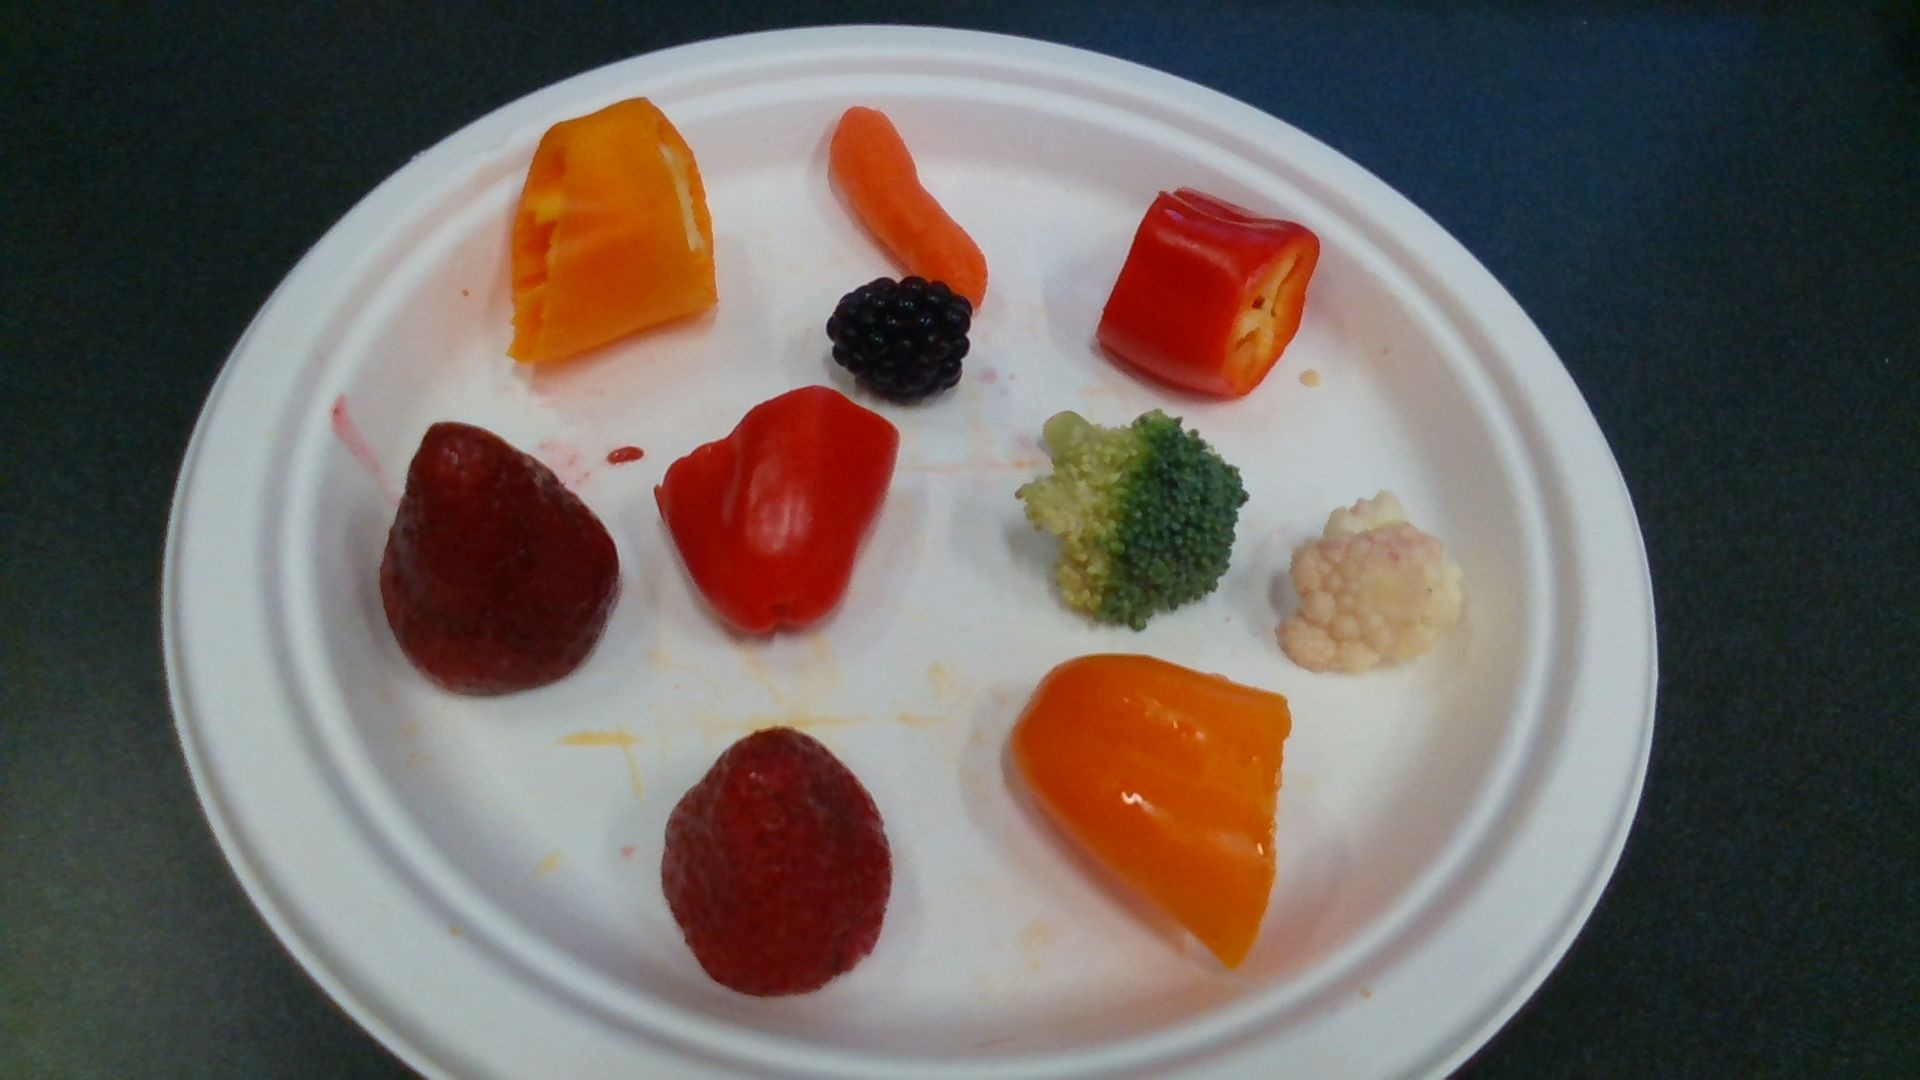bell_pepper: (1007, 655, 1290, 963), (657, 390, 897, 636), (516, 98, 715, 357), (1098, 190, 1320, 393)
blackberry: (829, 280, 972, 400)
broccoli: (1019, 415, 1244, 628)
carrot: (829, 108, 986, 306)
cauliflower: (1280, 495, 1464, 673)
strawberry: (378, 425, 618, 695), (665, 728, 894, 998)
